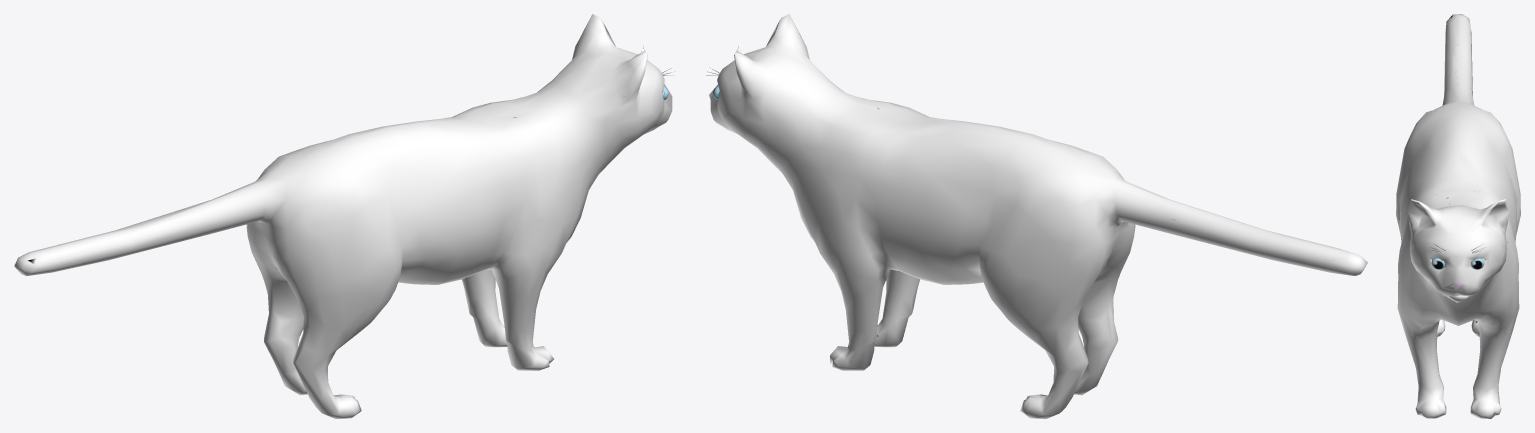
The model's file is whitepolycat.glb.
The picture shows the model from 3 angles, left to right: view 1: azimuth 30°, elevation 25°; view 2: azimuth 150°, elevation 25°; view 3: azimuth 270°, elevation 25°; orthographic projection. The views are drawn at different scales.
Visible parts, largest first — view 1: cat; view 2: cat; view 3: cat.
Boxes of the visible parts, x1,y1,x2,y2 form: cat: (14, 14, 674, 418); cat: (706, 14, 1367, 418); cat: (1396, 14, 1520, 418).
Bounding box in the file's own units: 23.49 × 10.21 × 4.45.
Materials: 1 (1 with a texture image).
